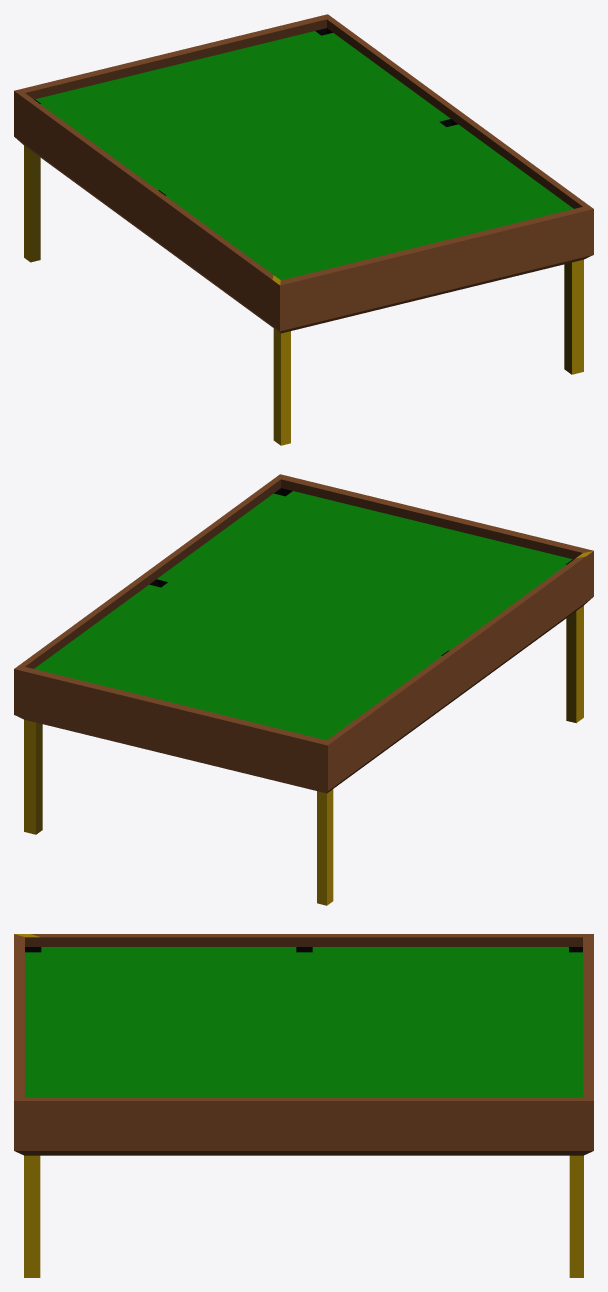
Rendered from Pool_Table.obj.
3 views of the same model, one above another, from view 1: azimuth 30°, elevation 25°; view 2: azimuth 150°, elevation 25°; view 3: azimuth 270°, elevation 25° (orthographic). The views are drawn at different scales.
Visible parts, largest first — view 1: Cube; view 2: Cube; view 3: Cube.
Boxes of the visible parts, x1,y1,x2,y2 form: Cube: (14, 14, 593, 445); Cube: (14, 474, 593, 905); Cube: (14, 934, 593, 1277).
Bounding box in the file's own units: 8.57 × 4.31 × 12.59.
